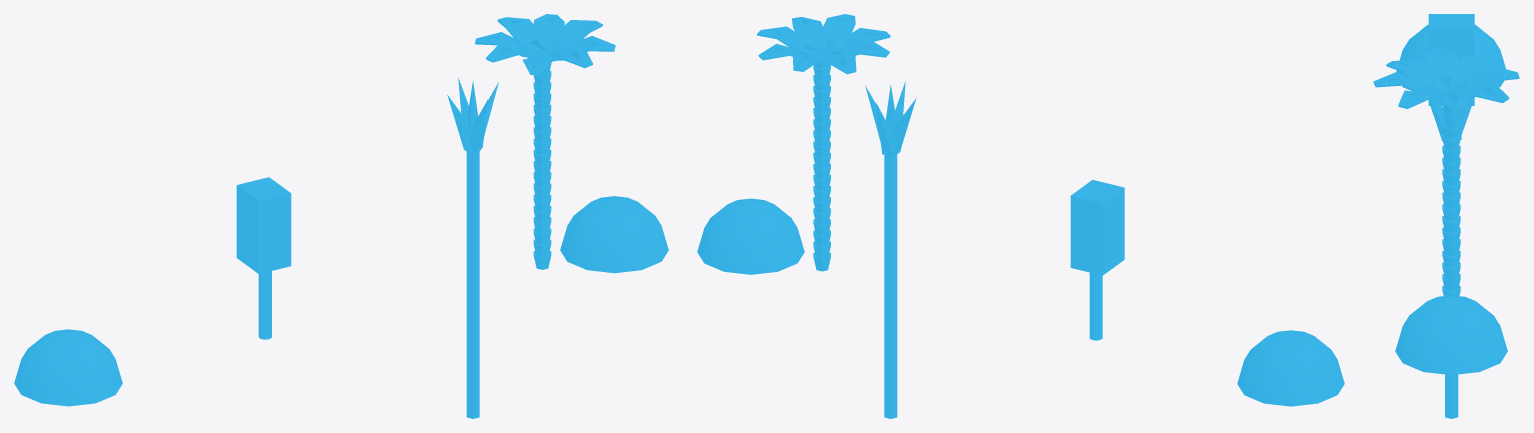
File: tree.fbx
3 views of the same model, side by side, from view 1: azimuth 30°, elevation 25°; view 2: azimuth 150°, elevation 25°; view 3: azimuth 270°, elevation 25° (orthographic). The views are drawn at different scales.
Parts seen in each view (by area): view 1: Null_2, Sphere, Sphere_1, Cylinder_1, Null_1; view 2: Null_2, Sphere, Sphere_1, Cylinder_1, Null_1; view 3: Null_2, Sphere, Cylinder_1, Sphere_1, Null_1.
Boxes of the visible parts, bbox=[...] form: Null_2: bbox=[475, 14, 615, 269]; Sphere: bbox=[560, 196, 668, 273]; Sphere_1: bbox=[14, 329, 122, 406]; Cylinder_1: bbox=[236, 177, 291, 339]; Null_1: bbox=[447, 77, 498, 418]; Null_2: bbox=[757, 14, 890, 271]; Sphere: bbox=[697, 198, 804, 274]; Sphere_1: bbox=[1237, 330, 1344, 406]; Cylinder_1: bbox=[1070, 179, 1124, 340]; Null_1: bbox=[865, 81, 916, 418]; Null_2: bbox=[1373, 48, 1519, 295]; Sphere: bbox=[1395, 295, 1507, 375]; Cylinder_1: bbox=[1428, 14, 1474, 105]; Sphere_1: bbox=[1396, 24, 1505, 92]; Null_1: bbox=[1428, 97, 1474, 418].
Bounding box in the file's own units: 788 × 427 × 150.
